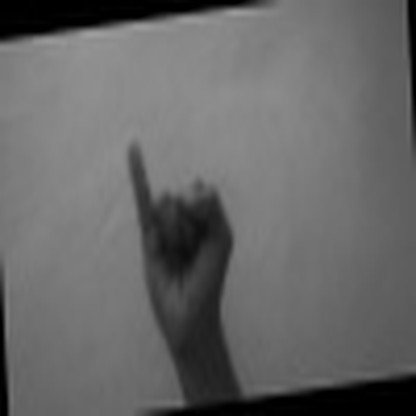i: (119, 132, 236, 332)
